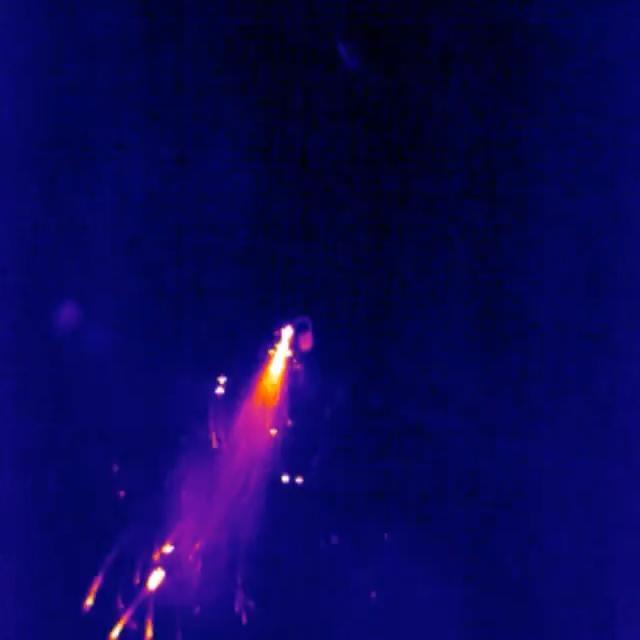fire: (246, 322, 296, 450), (148, 564, 170, 601)
